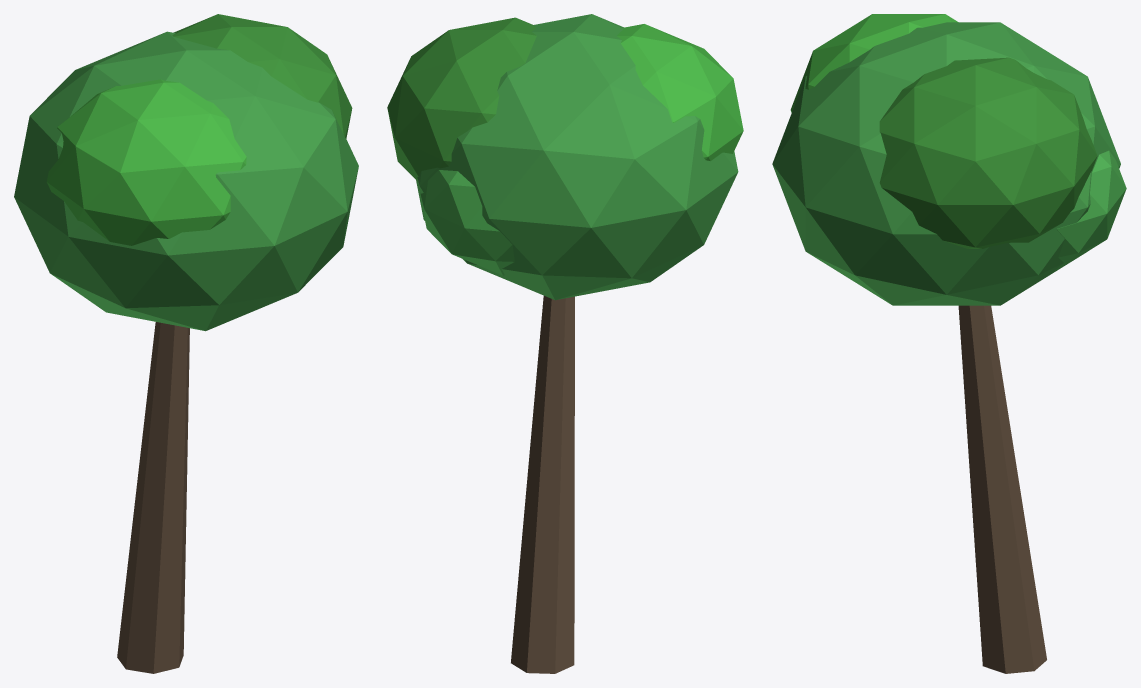
Rendered from tree_oak_1.glb.
The picture shows the model from 3 angles, left to right: view 1: azimuth 30°, elevation 25°; view 2: azimuth 150°, elevation 25°; view 3: azimuth 270°, elevation 25°; orthographic projection. The views are drawn at different scales.
Visible parts, largest first — view 1: Icosphere, Icosphere.002, Trunk, Icosphere.001; view 2: Icosphere, Trunk, Icosphere.001, Icosphere.002, Icosphere.003; view 3: Icosphere, Icosphere.001, Trunk, Icosphere.002, Icosphere.003.
Part boxes in pixels (x1,y1,x2,y2): Icosphere: [14, 31, 358, 331]; Icosphere.002: [47, 79, 246, 245]; Trunk: [117, 322, 189, 673]; Icosphere.001: [172, 14, 352, 138]; Icosphere: [416, 14, 738, 300]; Trunk: [511, 296, 574, 673]; Icosphere.001: [387, 17, 536, 181]; Icosphere.002: [617, 24, 743, 160]; Icosphere.003: [418, 170, 514, 275]; Icosphere: [772, 22, 1120, 305]; Icosphere.001: [879, 57, 1097, 248]; Trunk: [958, 305, 1046, 673]; Icosphere.002: [790, 14, 958, 112]; Icosphere.003: [1055, 150, 1126, 270].
Bounding box in the file's own units: 3.33 × 6.56 × 3.37.
